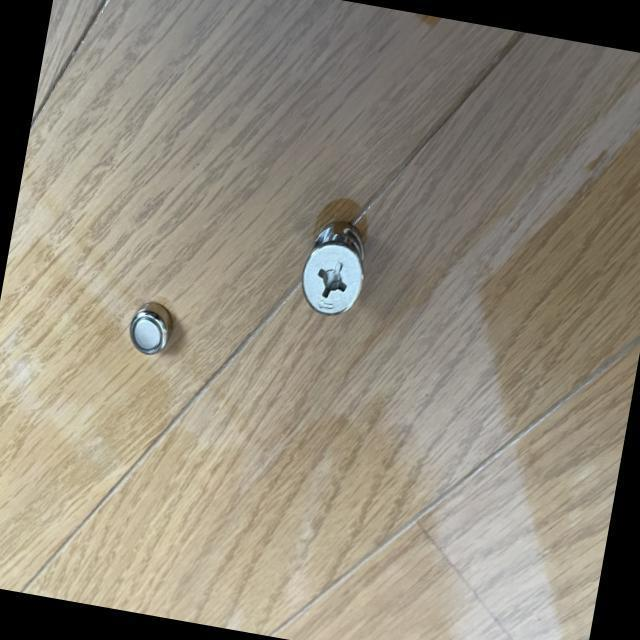COIN: (126, 296, 176, 356)
